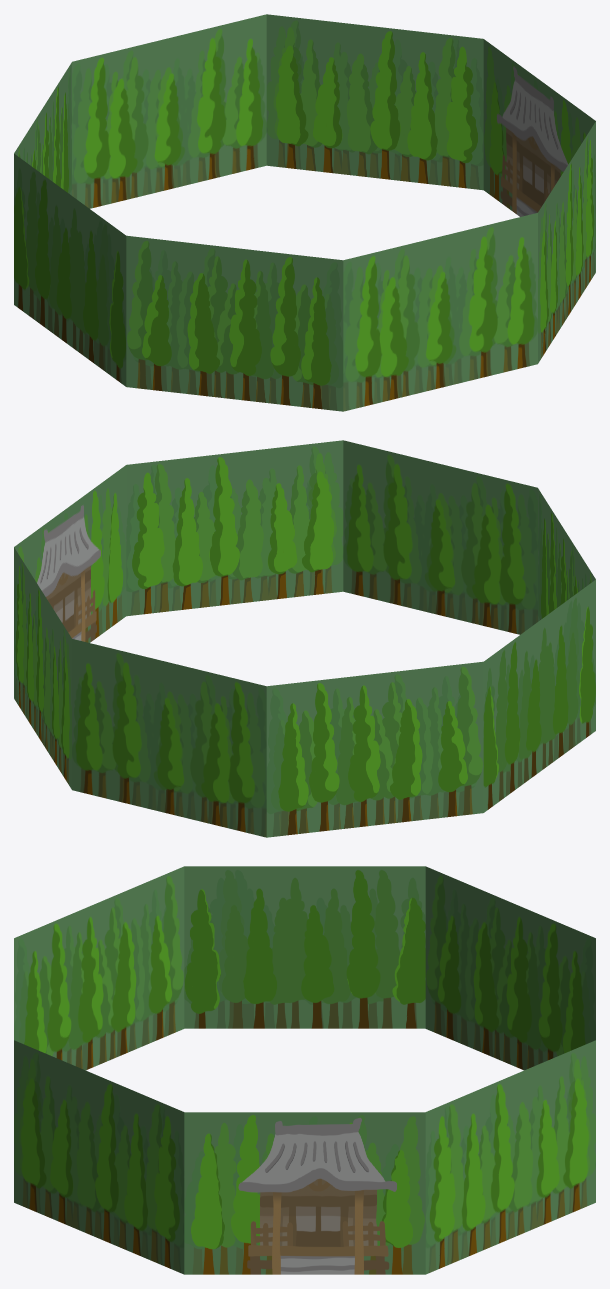
The model's file is background (1).fbx.
The picture shows the model from 3 angles, top to bottom: view 1: azimuth 30°, elevation 25°; view 2: azimuth 150°, elevation 25°; view 3: azimuth 270°, elevation 25°; orthographic projection. The views are drawn at different scales.
Visible parts, largest first — view 1: pCylinder2; view 2: pCylinder2; view 3: pCylinder2.
Boxes of the visible parts, <box> form: pCylinder2: <box>14,14,595,411</box>; pCylinder2: <box>14,440,595,837</box>; pCylinder2: <box>14,866,595,1274</box>.
Size of the model in its own units: 828 by 255 by 828.
Materials: 1 (1 with a texture image).
